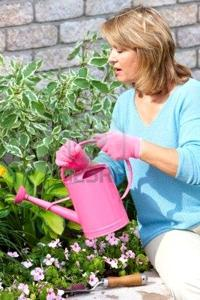person: (54, 4, 200, 299)
